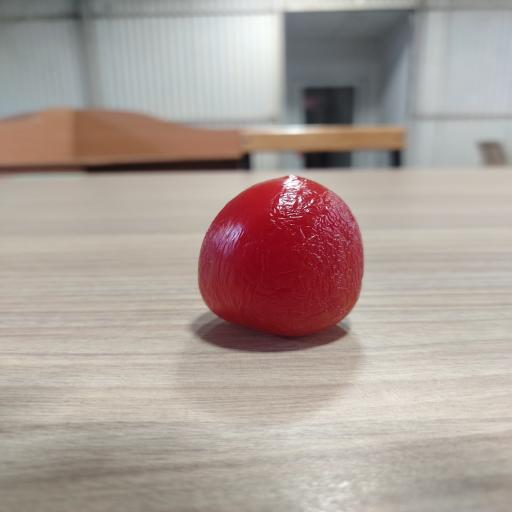spoiled: (199, 176, 363, 336)
